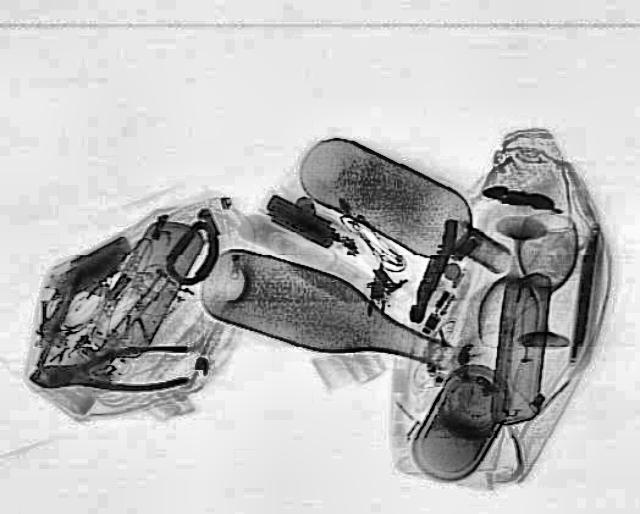Pliers: (26, 342, 190, 398)
